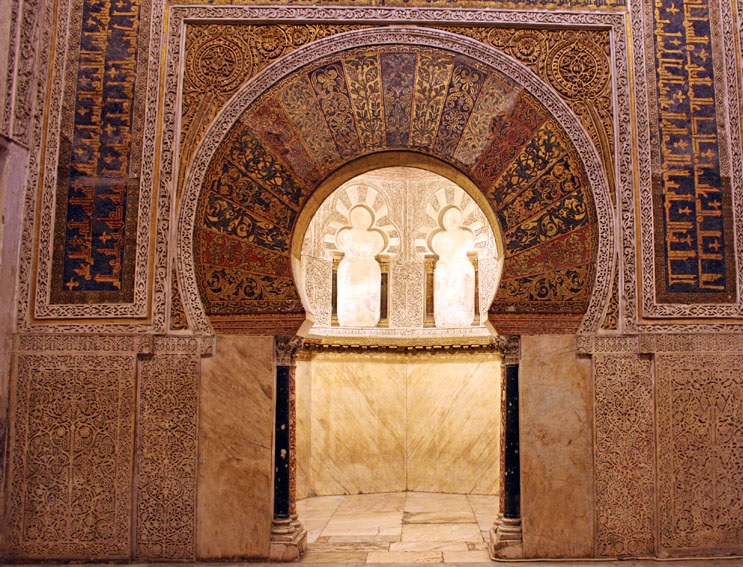arco-herradura: (253, 126, 544, 363)
